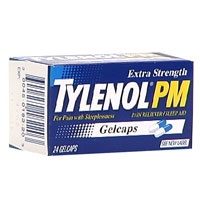grozi_60: (8, 51, 194, 156)
